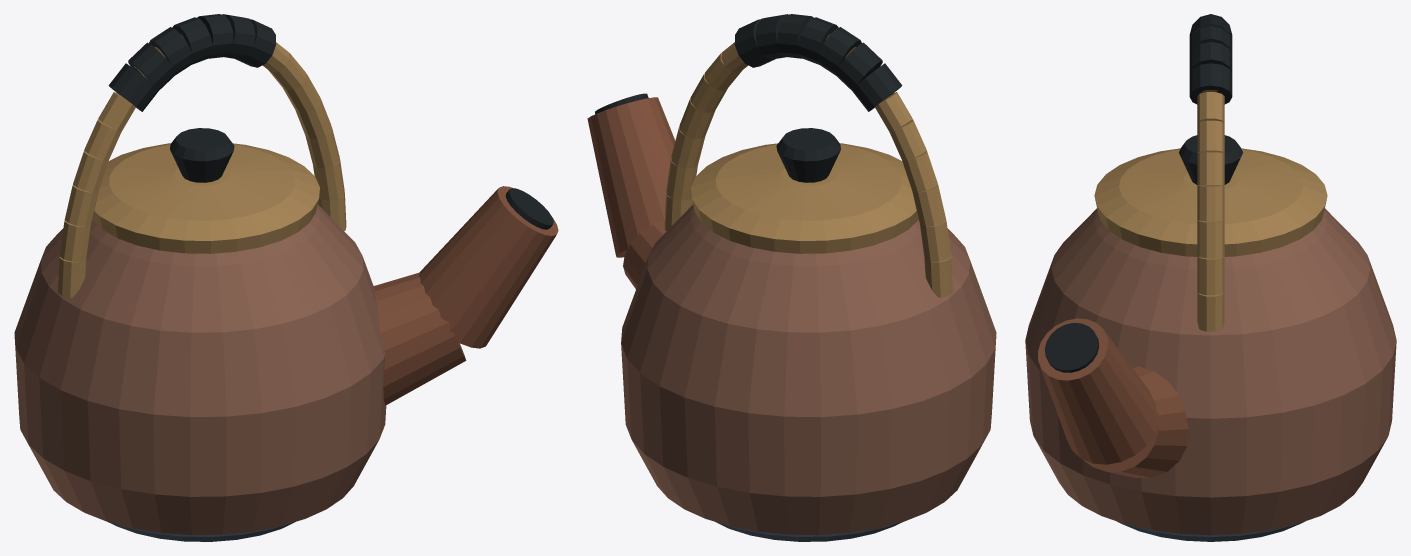
The model's file is B-06b_kettle.glb.
The picture shows the model from 3 angles, left to right: view 1: azimuth 30°, elevation 25°; view 2: azimuth 150°, elevation 25°; view 3: azimuth 270°, elevation 25°; orthographic projection.
Parts seen in each view (by area): view 1: B-06b_kettle; view 2: B-06b_kettle; view 3: B-06b_kettle.
Boxes of the visible parts, x1,y1,x2,y2 form: B-06b_kettle: [14, 14, 558, 541]; B-06b_kettle: [587, 14, 996, 541]; B-06b_kettle: [1025, 14, 1396, 541].
Bounding box in the file's own units: 0.3318 × 0.3369 × 0.242.
